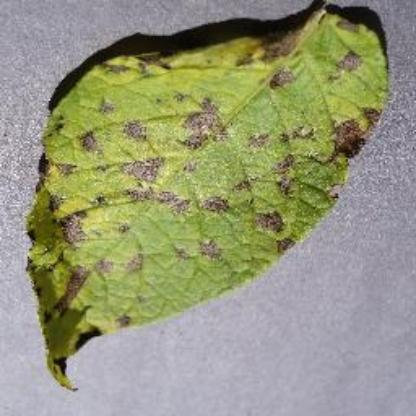Early-Blight: (26, 12, 394, 392)
